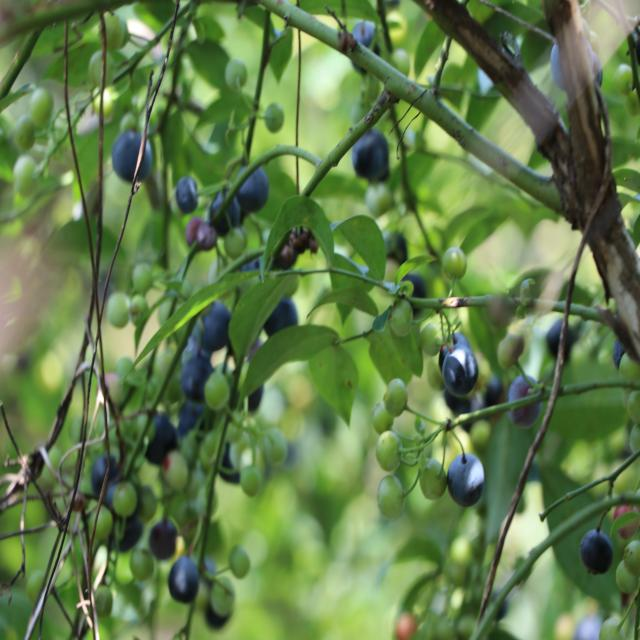blueberry: (441, 332, 479, 394), (110, 130, 154, 182), (352, 126, 388, 180), (448, 452, 484, 503), (142, 414, 178, 462), (234, 164, 269, 212), (507, 379, 542, 426), (90, 452, 122, 502), (579, 528, 612, 576), (200, 300, 229, 351), (208, 190, 240, 233), (168, 556, 198, 601), (264, 294, 297, 334), (181, 354, 212, 395), (148, 518, 177, 560), (545, 319, 571, 356), (174, 175, 199, 212)
blueberry-unripe: (417, 457, 448, 501), (376, 474, 406, 518), (373, 428, 403, 471), (203, 370, 231, 408), (389, 298, 414, 339), (383, 376, 408, 414), (418, 322, 444, 357), (126, 552, 156, 582), (442, 246, 467, 280), (114, 482, 139, 514), (264, 430, 286, 466), (108, 290, 130, 326), (228, 546, 251, 580), (241, 464, 262, 496), (373, 402, 393, 432)
